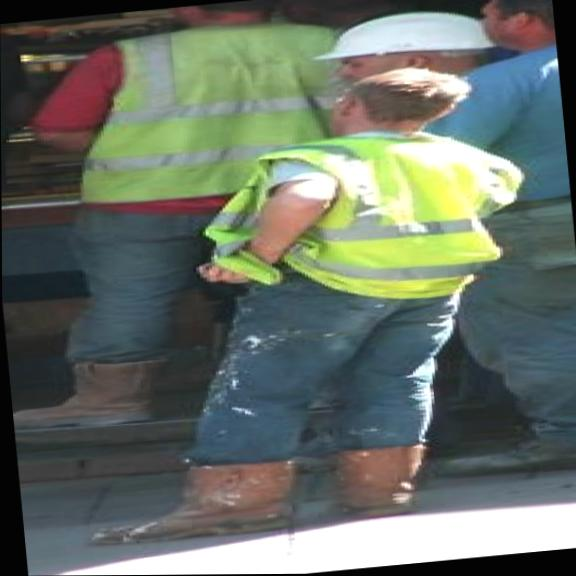safety_vest: (194, 112, 538, 320), (70, 16, 354, 212)
